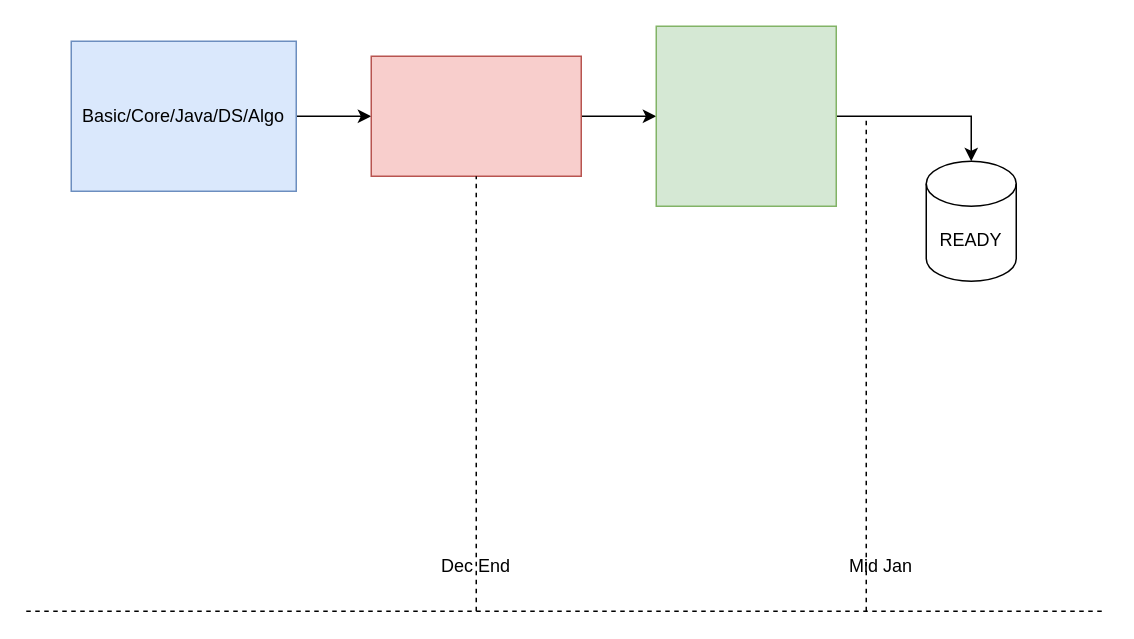
This 1134x639 diagram has some shape labels left out. Here are the shapes that lost their labels. From the top down, the centre of each, then its label:
At (x=475, y=115): "Practice Question/Revise/System Design".
At (x=745, y=115): "System Design/Experienced Questions".
